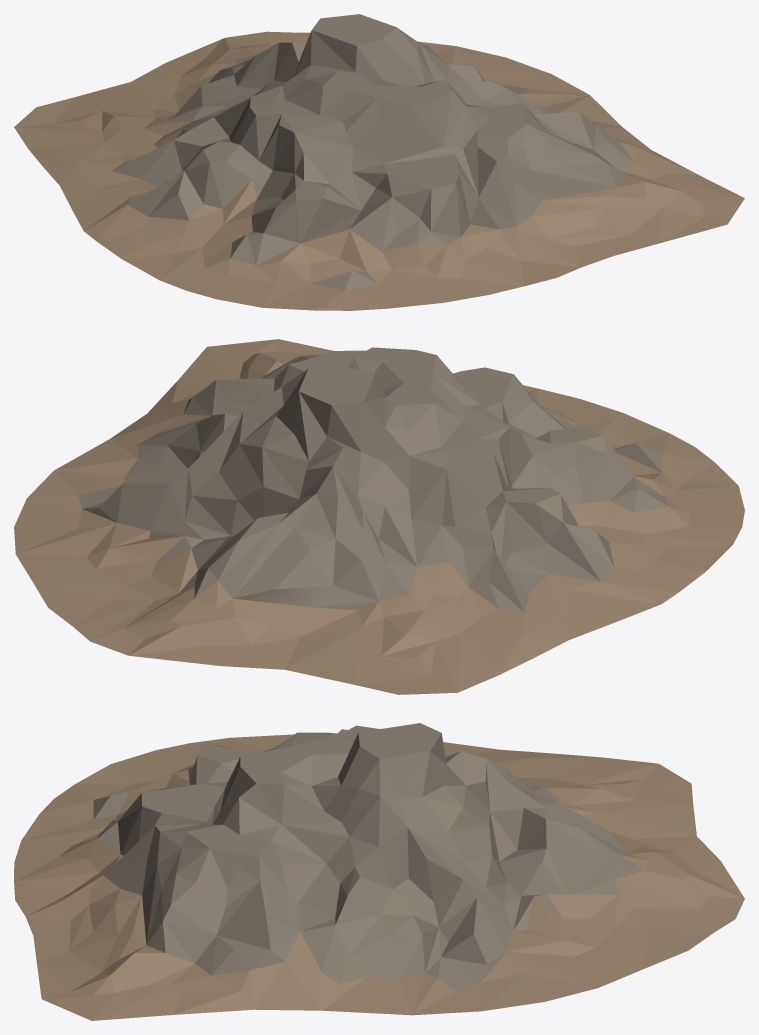
Rendered from SM_Env_Mountain_02.glb.
3 renders of one model, top to bottom at view 1: azimuth 30°, elevation 25°; view 2: azimuth 150°, elevation 25°; view 3: azimuth 270°, elevation 25°, orthographic. The views are drawn at different scales.
Visible parts, largest first — view 1: SM_Env_Mountain_02; view 2: SM_Env_Mountain_02; view 3: SM_Env_Mountain_02.
Part boxes in pixels (x1,y1,x2,y2): SM_Env_Mountain_02: (14, 14, 744, 310); SM_Env_Mountain_02: (14, 339, 744, 694); SM_Env_Mountain_02: (14, 723, 744, 1020).
Size of the model in its own units: 47.57 by 11.09 by 51.18.
Materials: 1 (1 with a texture image).
